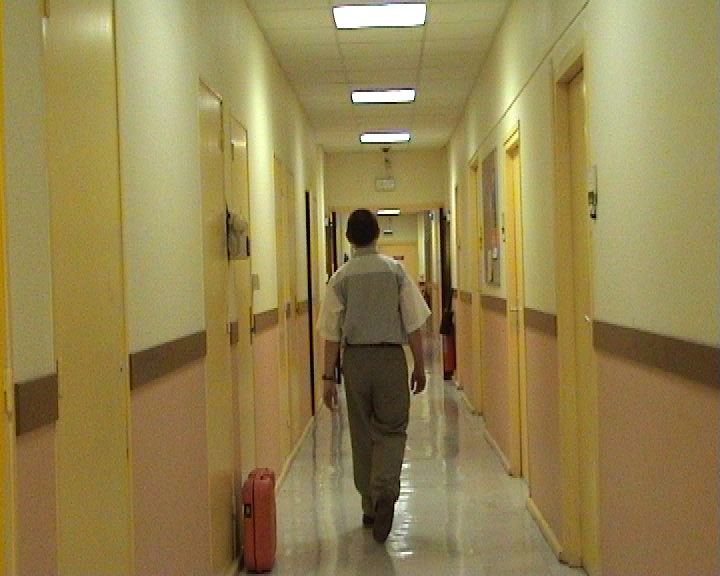leave bag unattended: (209, 435, 294, 576)
